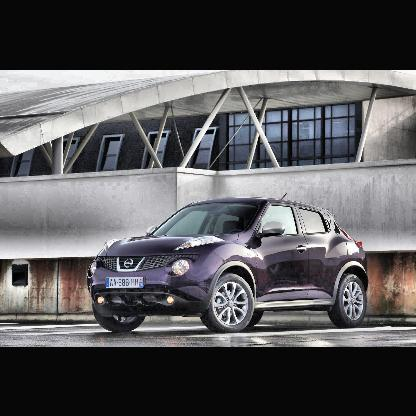Nissan Juke Hatchback 2012: (89, 199, 369, 335)
